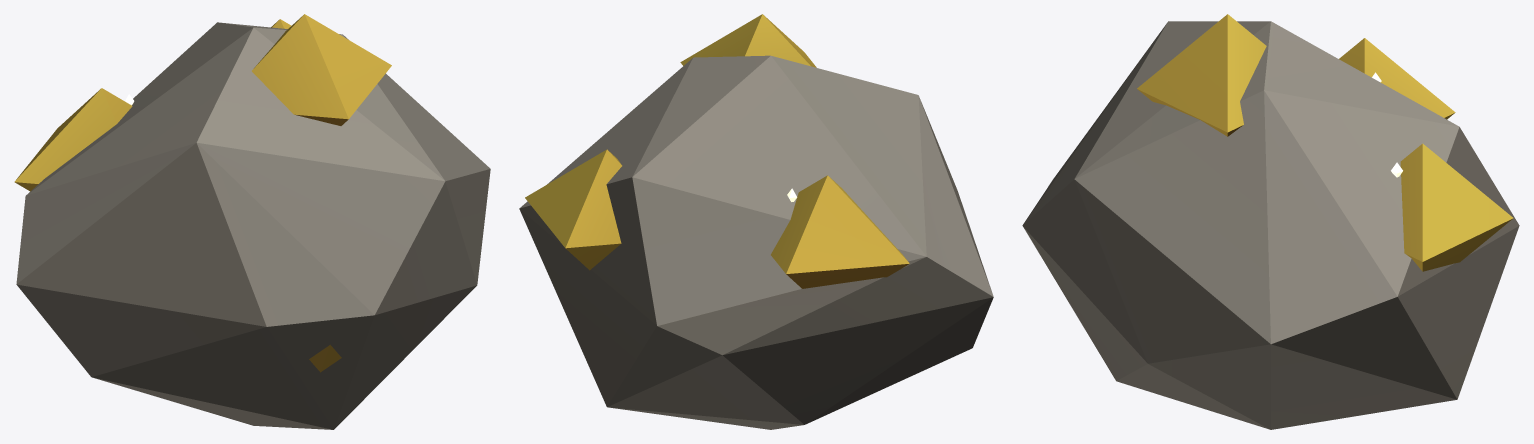
Rendered from ore_gold_low.glb.
The picture shows the model from 3 angles, left to right: view 1: azimuth 30°, elevation 25°; view 2: azimuth 150°, elevation 25°; view 3: azimuth 270°, elevation 25°; orthographic projection. The views are drawn at different scales.
Size of the model in its own units: 0.26 by 0.22 by 0.23.
